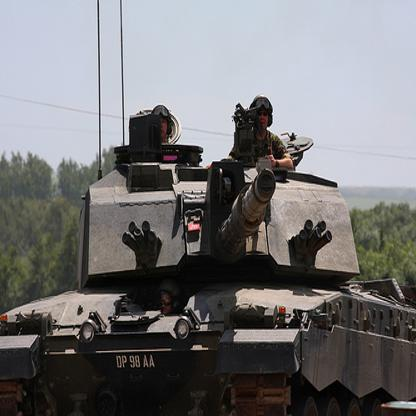Tank: (2, 108, 416, 416)
